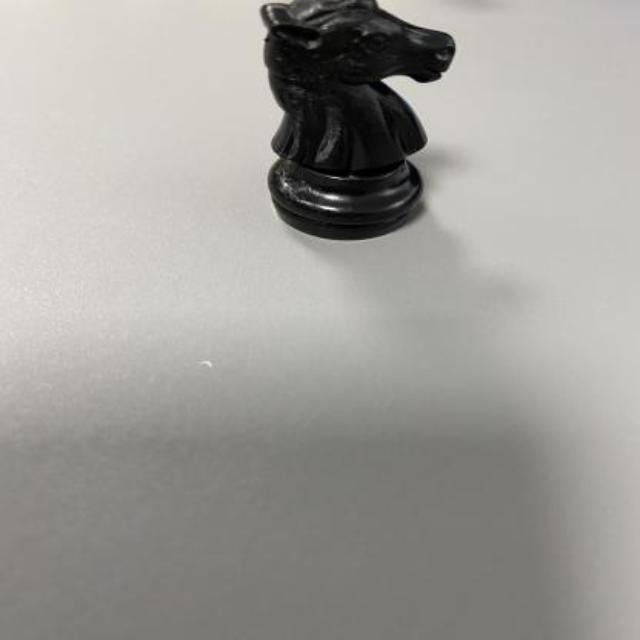black-knight: (259, 1, 455, 241)
